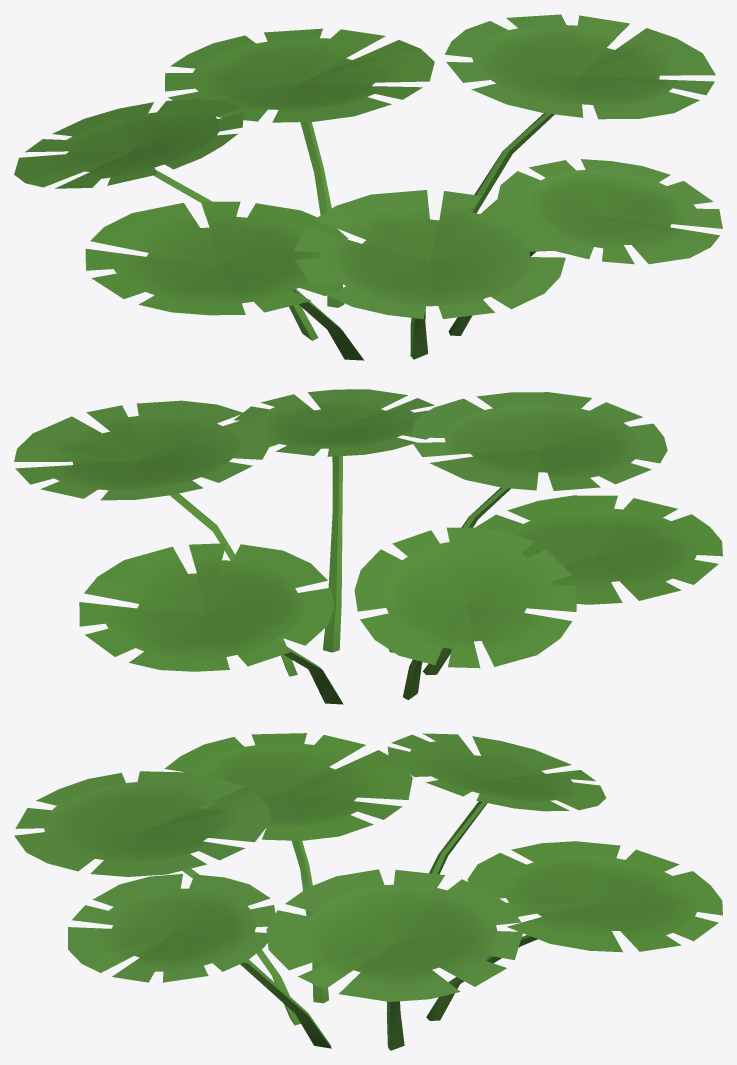
The model's file is Dino_Vege_Araceae.fbx.
The picture shows the model from 3 angles, top to bottom: view 1: azimuth 30°, elevation 25°; view 2: azimuth 150°, elevation 25°; view 3: azimuth 270°, elevation 25°; orthographic projection. The views are drawn at different scales.
Visible parts, largest first — view 1: Dino_Vege_Araceae_mesh; view 2: Dino_Vege_Araceae_mesh; view 3: Dino_Vege_Araceae_mesh.
Part boxes in pixels (bbox=[...]): Dino_Vege_Araceae_mesh: bbox=[14, 14, 722, 360]; Dino_Vege_Araceae_mesh: bbox=[14, 389, 722, 704]; Dino_Vege_Araceae_mesh: bbox=[14, 733, 722, 1050].
Size of the model in its own units: 29.46 by 9.08 by 29.47.
